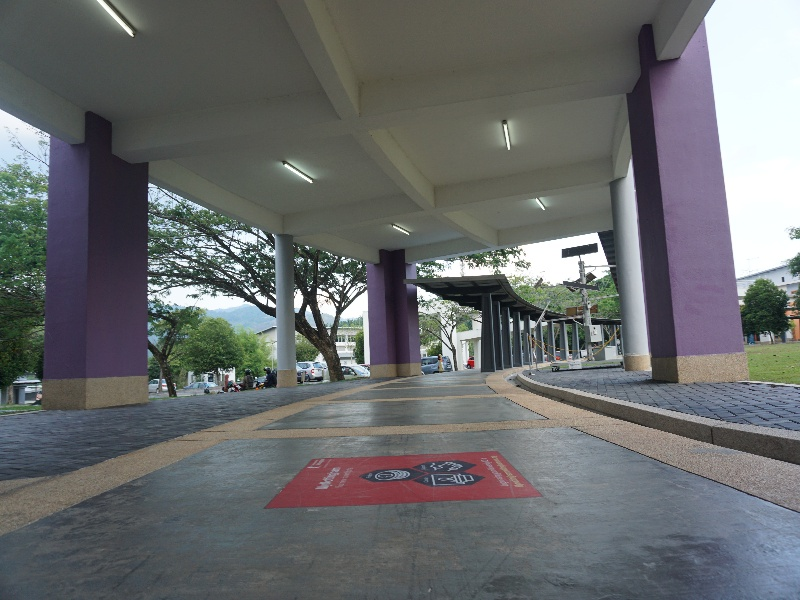Block D Pillar 4: (2, 1, 800, 518)
pillar: (622, 28, 758, 389), (42, 104, 154, 409), (359, 245, 425, 379), (265, 228, 306, 393), (478, 289, 497, 374)
